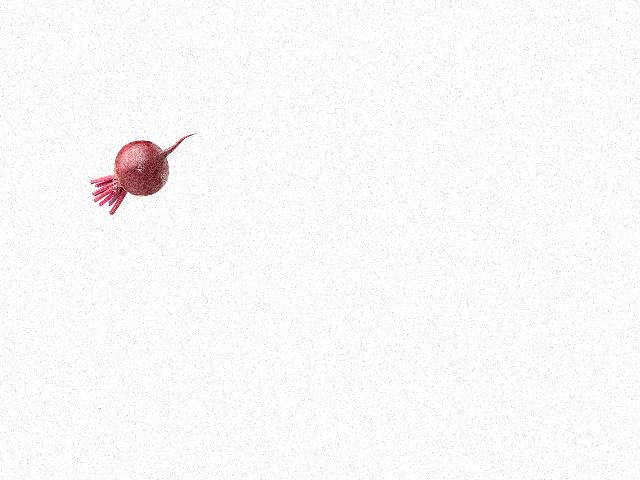beet: (90, 132, 195, 215)
